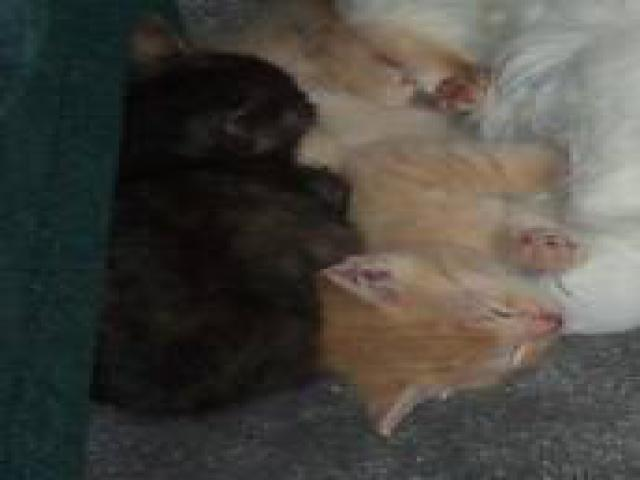cat: (120, 18, 604, 435)
